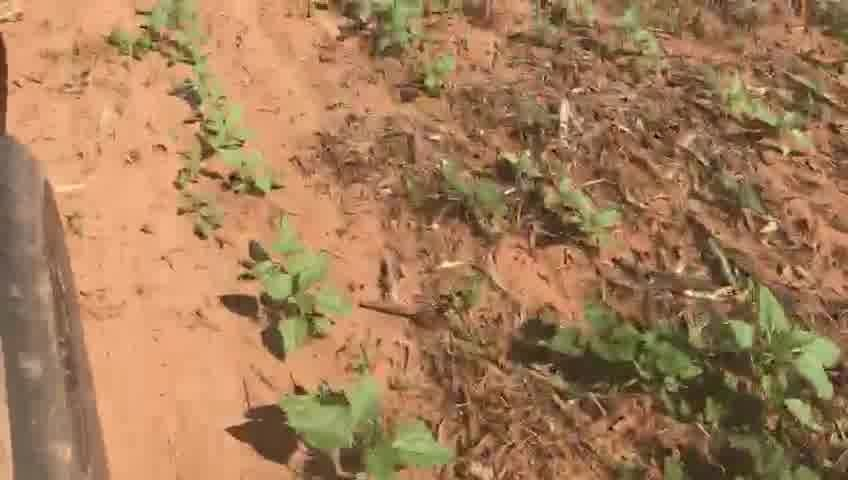sunflower: (270, 375, 450, 475), (720, 280, 838, 404), (193, 100, 285, 198), (257, 249, 335, 361), (161, 27, 227, 104)
